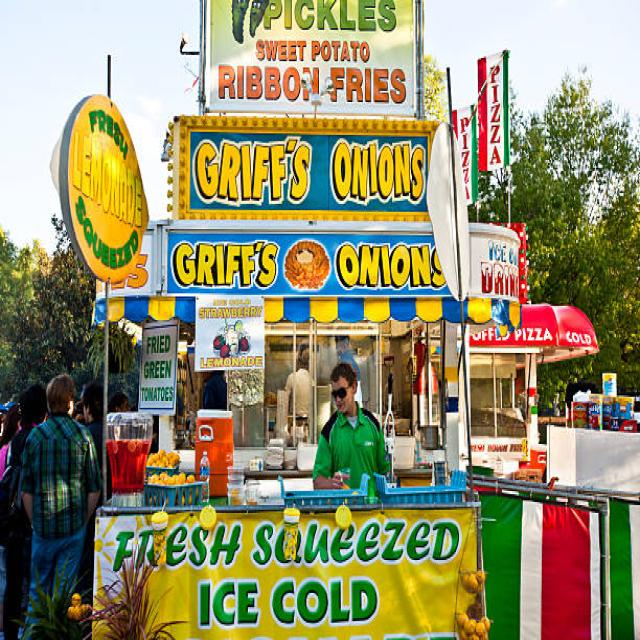Emperan: (45, 0, 489, 640)
